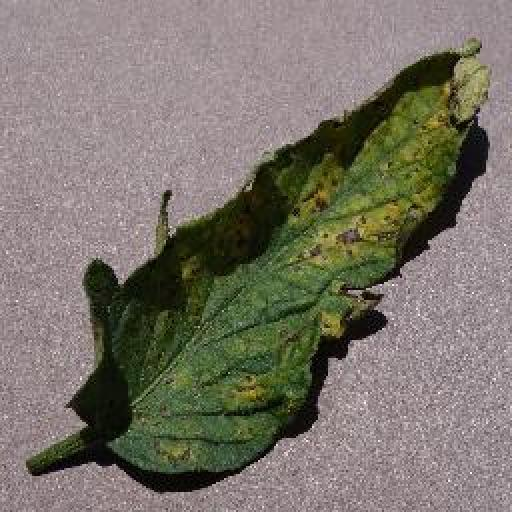Septoria: (71, 40, 490, 476)
